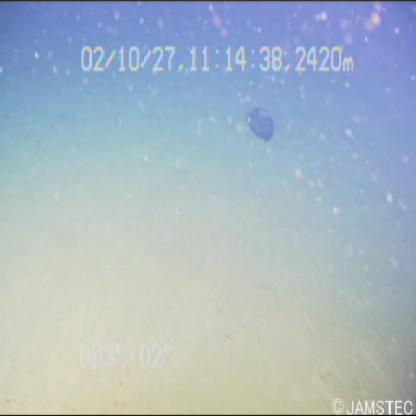Rác: (236, 95, 283, 149)
